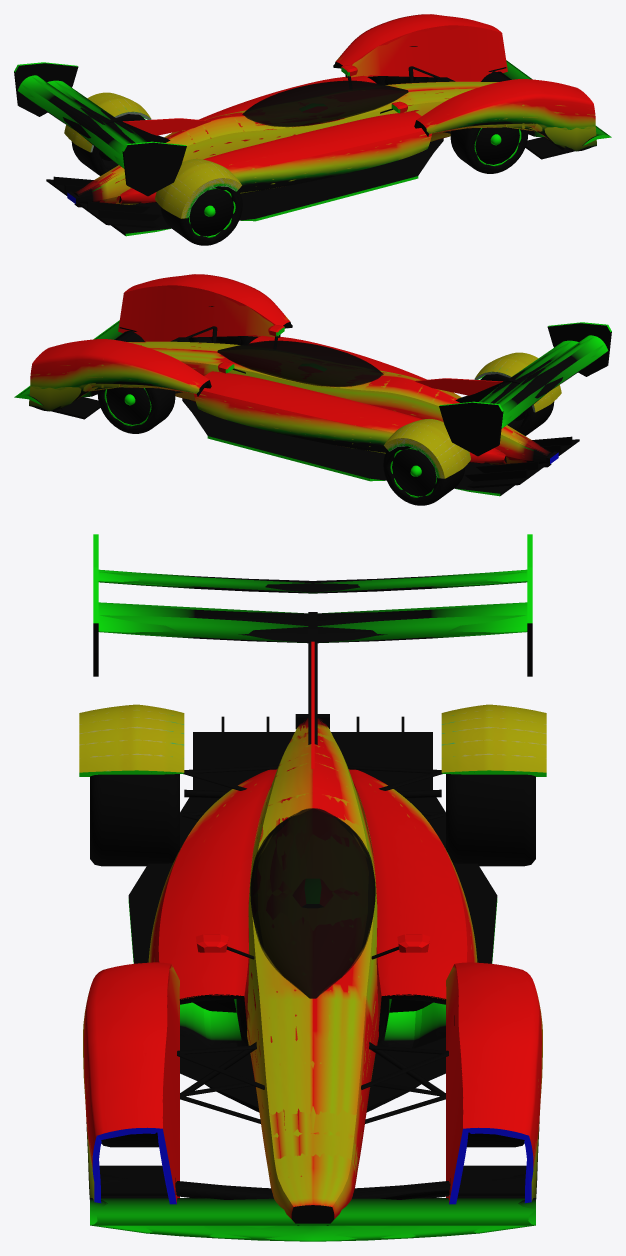
File: spectre.glb
3 views of the same model, one above another, from view 1: azimuth 30°, elevation 25°; view 2: azimuth 150°, elevation 25°; view 3: azimuth 270°, elevation 25° (orthographic). The views are drawn at different scales.
Visible parts, largest first — view 1: body_L0, body_L2, glass_L0, glass_L1, body_L1, wheel_RR_L2, wheel_FR_L2, glass_L2, wheel_FR_L0, wheel_RR_L0, wheel_RL_L0, wheel_FR_L1 (+1 smaller); view 2: body_L0, body_L2, glass_L0, glass_L1, body_L1, wheel_RL_L2, wheel_FL_L2, glass_L2, wheel_FL_L0, wheel_RL_L0, wheel_RR_L0, wheel_FL_L1 (+1 smaller); view 3: body_L0, body_L2, glass_L0, glass_L1, body_L1, wheel_RL_L0, wheel_RR_L0.
Boxes of the visible parts, x1,y1,x2,y2 form: body_L0: (14, 14, 611, 236); body_L2: (20, 25, 610, 217); glass_L0: (242, 80, 408, 127); glass_L1: (243, 81, 407, 126); body_L1: (45, 17, 610, 217); wheel_RR_L2: (184, 186, 241, 243); wheel_FR_L2: (470, 127, 526, 171); glass_L2: (245, 81, 406, 116); wheel_FR_L0: (450, 128, 528, 173); wheel_RR_L0: (160, 188, 242, 245); wheel_RL_L0: (71, 114, 145, 175); wheel_FR_L1: (454, 128, 526, 173); body_L0: (14, 274, 611, 496); body_L2: (16, 285, 605, 478); glass_L0: (217, 340, 383, 387); glass_L1: (218, 341, 382, 386); body_L1: (16, 277, 606, 477); wheel_RL_L2: (384, 446, 441, 503); wheel_FL_L2: (99, 387, 155, 431); glass_L2: (219, 341, 380, 376); wheel_FL_L0: (97, 388, 175, 433); wheel_RL_L0: (383, 448, 465, 505); wheel_RR_L0: (480, 374, 554, 435); wheel_FL_L1: (99, 388, 171, 433); body_L0: (79, 534, 546, 1241); body_L2: (82, 572, 543, 1225); glass_L0: (250, 808, 375, 998); glass_L1: (251, 808, 374, 998); body_L1: (79, 582, 546, 1241); wheel_RL_L0: (446, 774, 535, 866); wheel_RR_L0: (90, 774, 179, 866).
Size of the model in its own units: 5.34 by 1.25 by 2.18.
